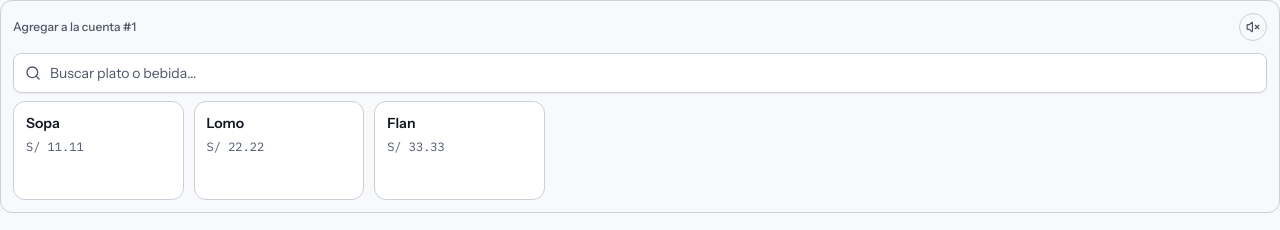
OrderComposer card renders (CP-01) › tapping a card re-renders that card only
Click the button "Sopa S/ 11.11" at (98, 151), box [14,102,183,199]
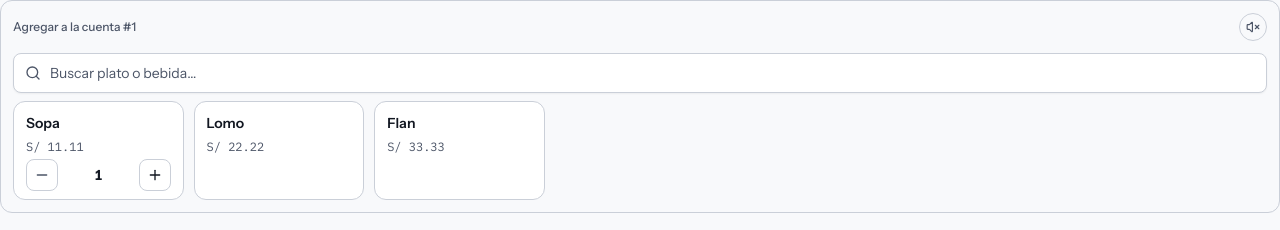
Expected: the text "1" is shown, [94,165,102,185]
